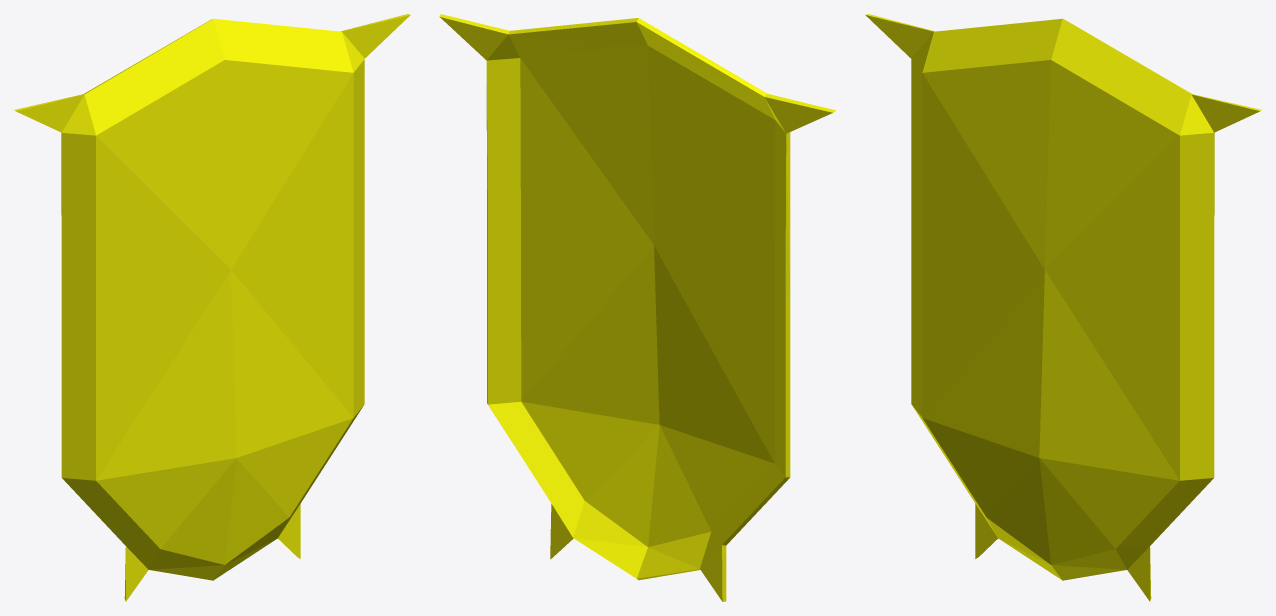
File: Army_Big_Shield.glb
The picture shows the model from 3 angles, left to right: view 1: azimuth 30°, elevation 25°; view 2: azimuth 150°, elevation 25°; view 3: azimuth 330°, elevation 25°; orthographic projection.
Visible parts, largest first — view 1: Shield; view 2: Shield; view 3: Shield.
Boxes of the visible parts, bbox=[...] form: Shield: bbox=[14, 14, 410, 601]; Shield: bbox=[439, 14, 836, 601]; Shield: bbox=[865, 14, 1261, 601].
Size of the model in its own units: 0.886 by 1.2 by 0.1004.
Materials: 1 (1 with a texture image).
